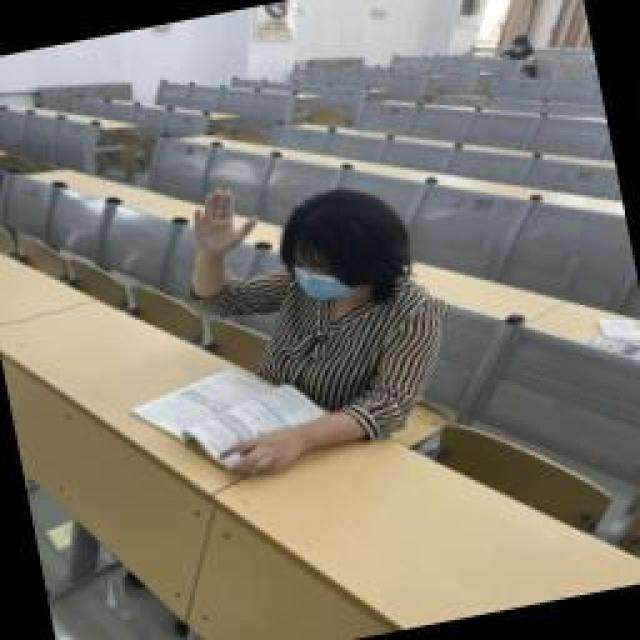study: (107, 148, 475, 490)
